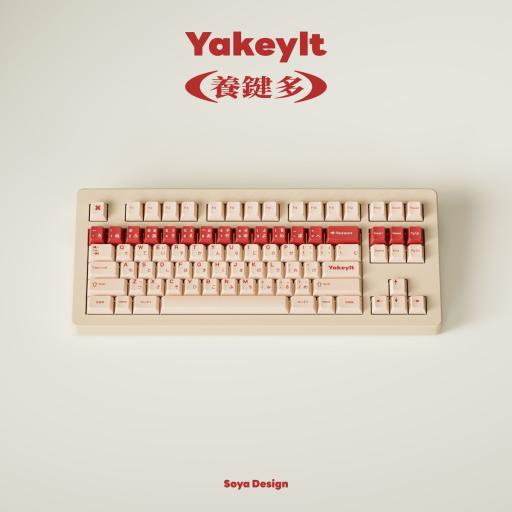keyboard: (70, 180, 448, 344)
